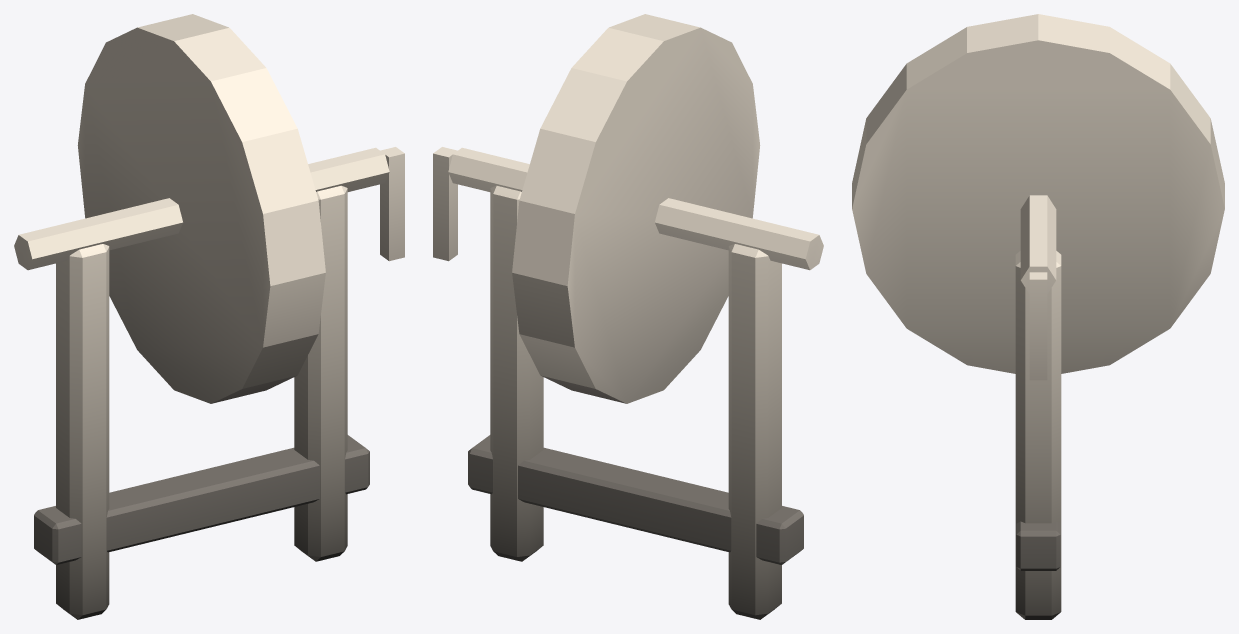
File: SM_VK_Prop_Grindstone.fbx
3 renders of one model, left to right at view 1: azimuth 30°, elevation 25°; view 2: azimuth 150°, elevation 25°; view 3: azimuth 270°, elevation 25°, orthographic. The views are drawn at different scales.
Visible parts, largest first — view 1: SM_VK_Prop_Grindstone.001; view 2: SM_VK_Prop_Grindstone.001; view 3: SM_VK_Prop_Grindstone.001.
Part boxes in pixels (x1=…): SM_VK_Prop_Grindstone.001: x1=14, y1=14, x2=404, y2=619; SM_VK_Prop_Grindstone.001: x1=433, y1=14, x2=823, y2=619; SM_VK_Prop_Grindstone.001: x1=852, y1=14, x2=1224, y2=619.
Bounding box in the file's own units: 0.95 × 1.32 × 0.84.
